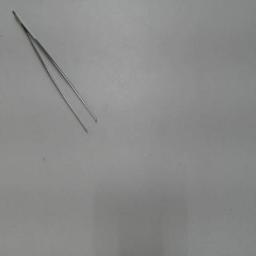Gillies Toothed Dissector: (9, 5, 103, 141)
